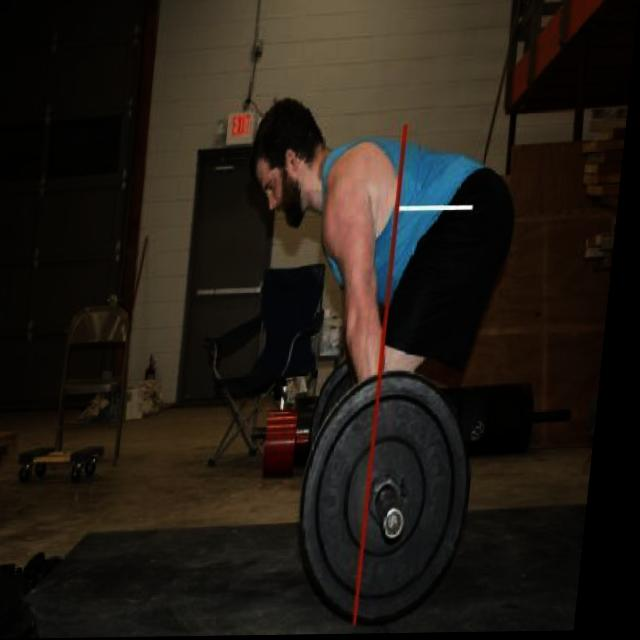barbell: (299, 368, 495, 634)
